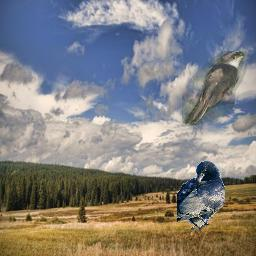Crow: (177, 161, 225, 232)
Cuckoo: (182, 51, 247, 127)
